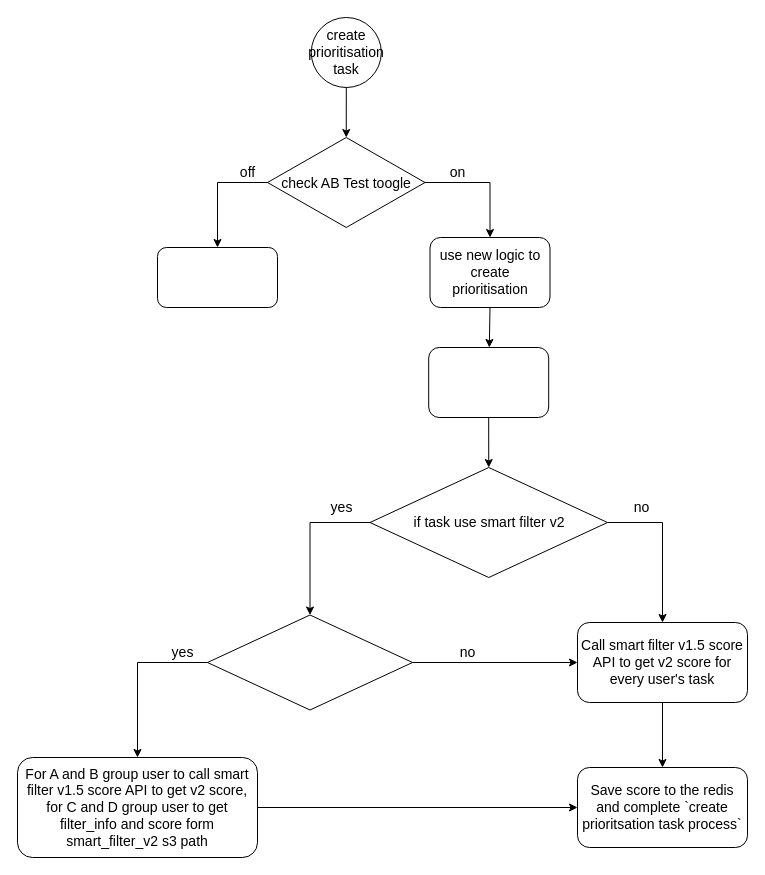
This 765x875 diagram has some shape labels left out. The shapes that lost their labels are listed below. From the top down, each one's box as (x1, y1, x2, y2) in pixels, then its label:
(156, 246, 278, 308): use old logic to create prioritisation task
(428, 346, 549, 418): call smart filter v2 filter API and check filter task state
(206, 614, 412, 710): if task use filtered_user file
